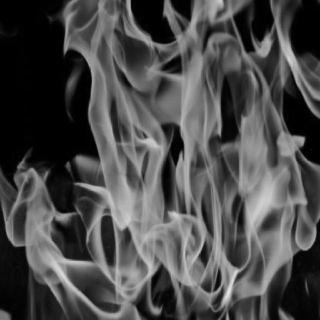Fire: (0, 0, 318, 319)
